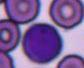L: (23, 23, 63, 63)
